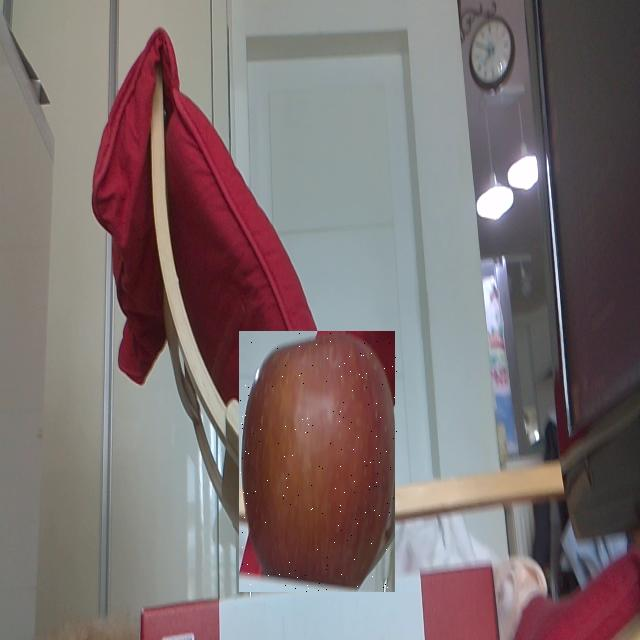apple: (240, 331, 398, 592)
